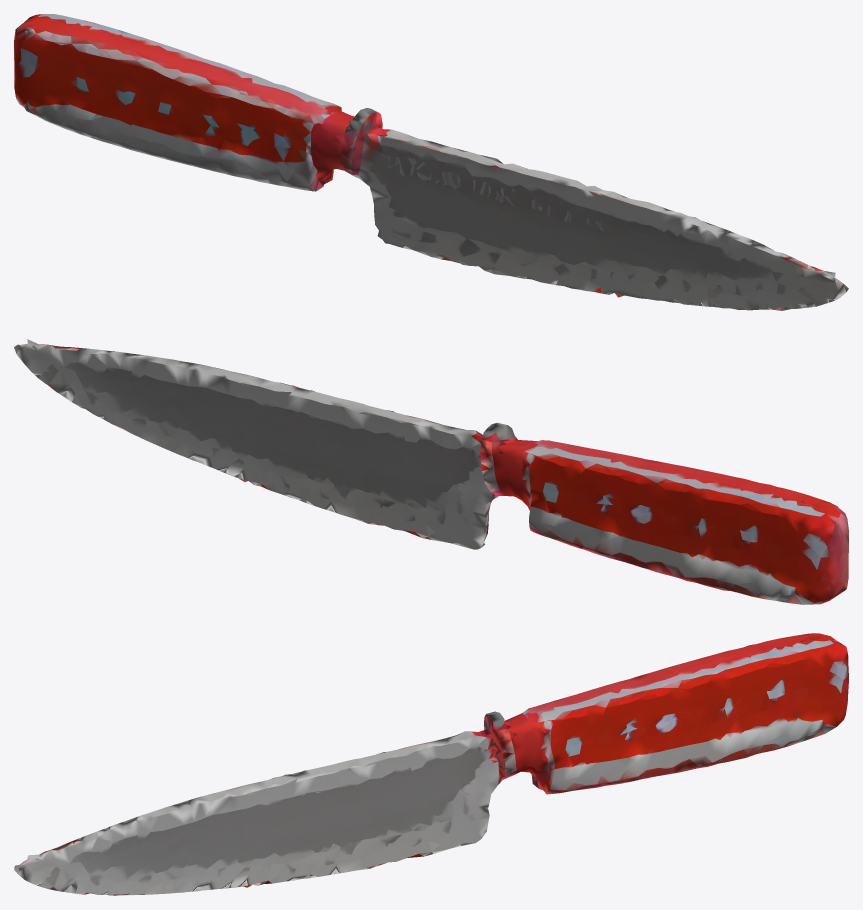
The model's file is knife.glb.
3 renders of one model, top to bottom at view 1: azimuth 30°, elevation 25°; view 2: azimuth 210°, elevation 25°; view 3: azimuth 270°, elevation 25°, orthographic. The views are drawn at different scales.
Parts seen in each view (by area): view 1: texture_pbr_v128; view 2: texture_pbr_v128; view 3: texture_pbr_v128.
Part boxes in pixels (x1,y1,x2,y2): texture_pbr_v128: (14,14,848,310); texture_pbr_v128: (14,339,848,604); texture_pbr_v128: (14,633,848,895).
Bounding box in the file's own units: 0.5708 × 0.1841 × 1.06.
Materials: 1 (1 with a texture image).
